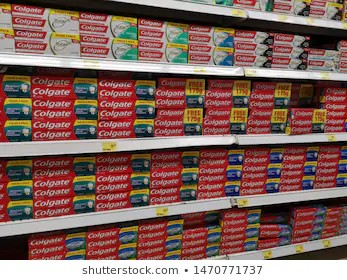colgate-family: (81, 9, 138, 40), (1, 31, 81, 53), (154, 107, 204, 139), (2, 9, 81, 29), (155, 78, 204, 107), (32, 77, 96, 99), (33, 99, 96, 121), (138, 18, 191, 44), (33, 156, 98, 177), (33, 177, 98, 198), (30, 198, 96, 218), (206, 79, 250, 108), (95, 152, 152, 174), (93, 191, 152, 212), (202, 107, 249, 133), (97, 80, 157, 100), (32, 121, 95, 140), (96, 119, 154, 139), (96, 100, 157, 119), (249, 105, 286, 135), (189, 43, 234, 67), (188, 24, 232, 48), (150, 169, 199, 189), (95, 174, 152, 191), (250, 81, 287, 107), (81, 40, 138, 56), (197, 149, 244, 168), (136, 44, 191, 60), (201, 182, 241, 202), (152, 152, 199, 169), (85, 229, 142, 243), (241, 164, 282, 182), (231, 28, 274, 44), (280, 174, 316, 193), (222, 207, 258, 225), (135, 222, 183, 235), (197, 168, 240, 182), (284, 146, 318, 163), (244, 149, 282, 164), (150, 189, 193, 202), (220, 225, 258, 239), (235, 53, 271, 67), (273, 45, 309, 59), (241, 182, 280, 193), (220, 239, 256, 250), (273, 33, 308, 44), (284, 163, 316, 174), (235, 44, 274, 53), (271, 59, 309, 68)
